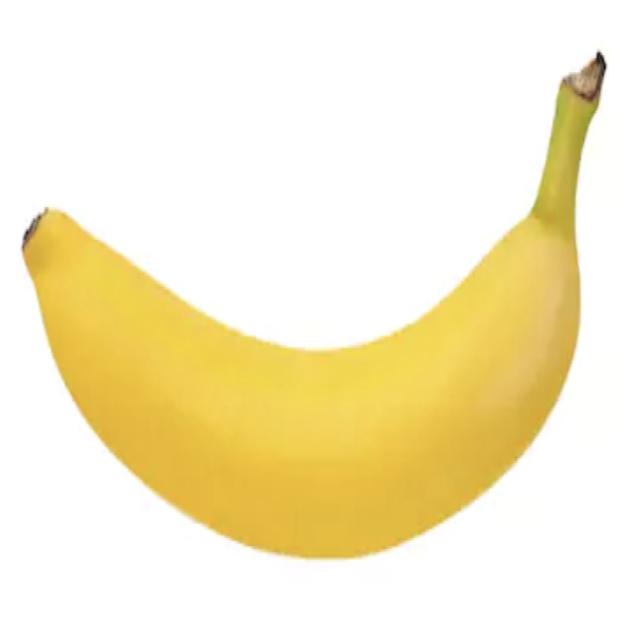fresh-banana: (21, 47, 608, 560)
